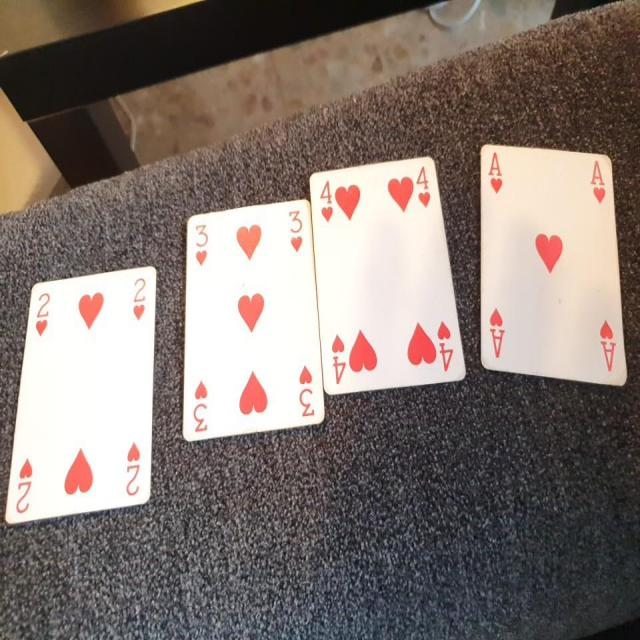2 Hearts: (1, 258, 174, 529)
3 Hearts: (181, 197, 325, 450)
4 Hearts: (304, 155, 476, 405)
A Hearts: (466, 136, 638, 405)
